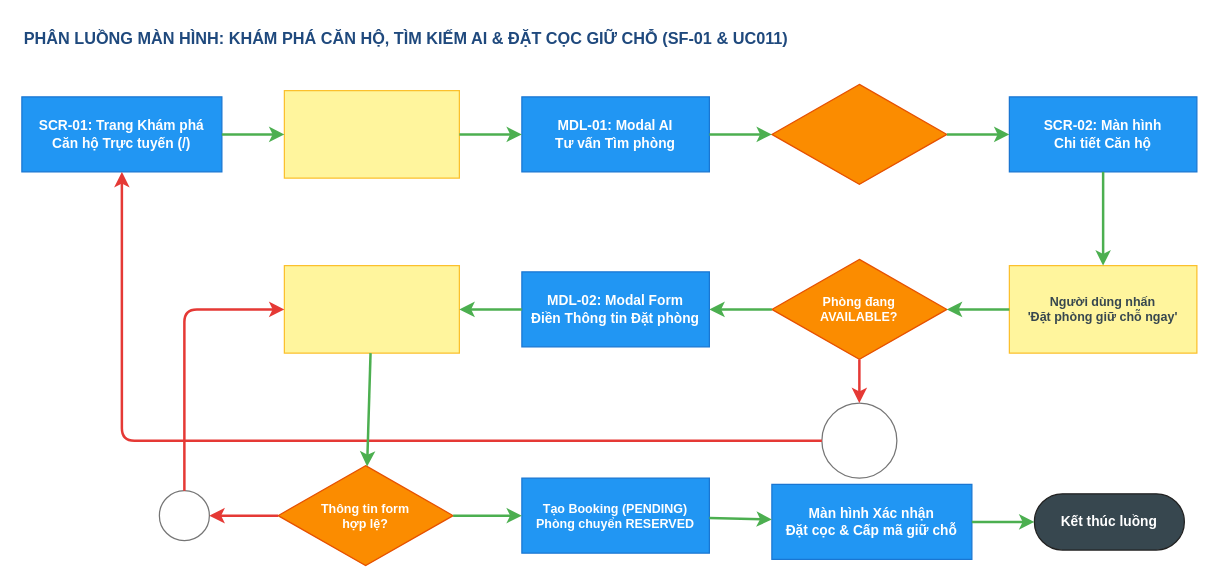
Some shapes in this 1219 by 588 pixel diagram are drawn without their labels. The shapes that lost their labels are listed below. From the top down, each one's centre as x and y in pixels, then its label:
At (x=371, y=133): "Người dùng click 'AI Room Matcher'".
At (x=859, y=133): "AI Matcher sinh gợi ý phòng?".
At (x=371, y=308): "Người dùng nhập CCCD, SĐT, Ngày vào & Gửi".
At (x=859, y=440): "Lỗi: Phòng đã bị giữ chỗ".
At (x=183, y=515): "Lỗi dữ liệu".
